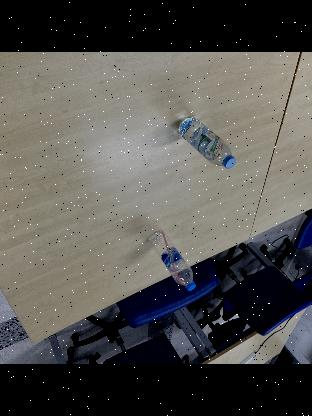Plastic Bottle: (145, 230, 195, 292), (178, 116, 236, 168)
